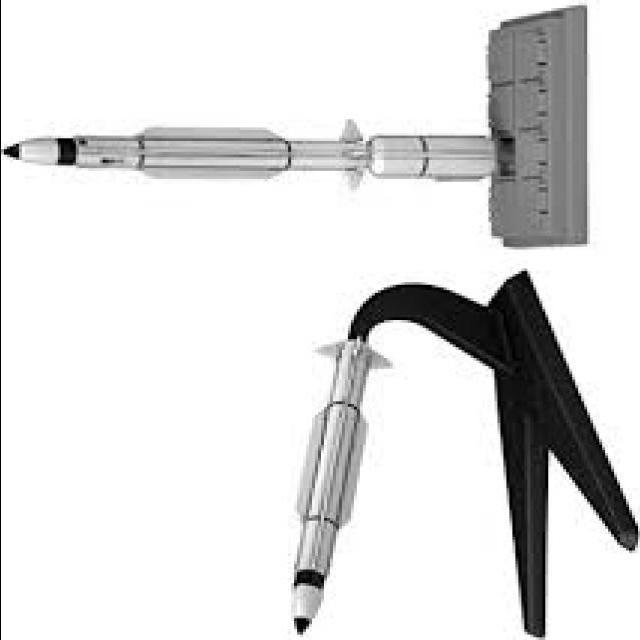Missile: (273, 331, 392, 634), (0, 125, 500, 188)
